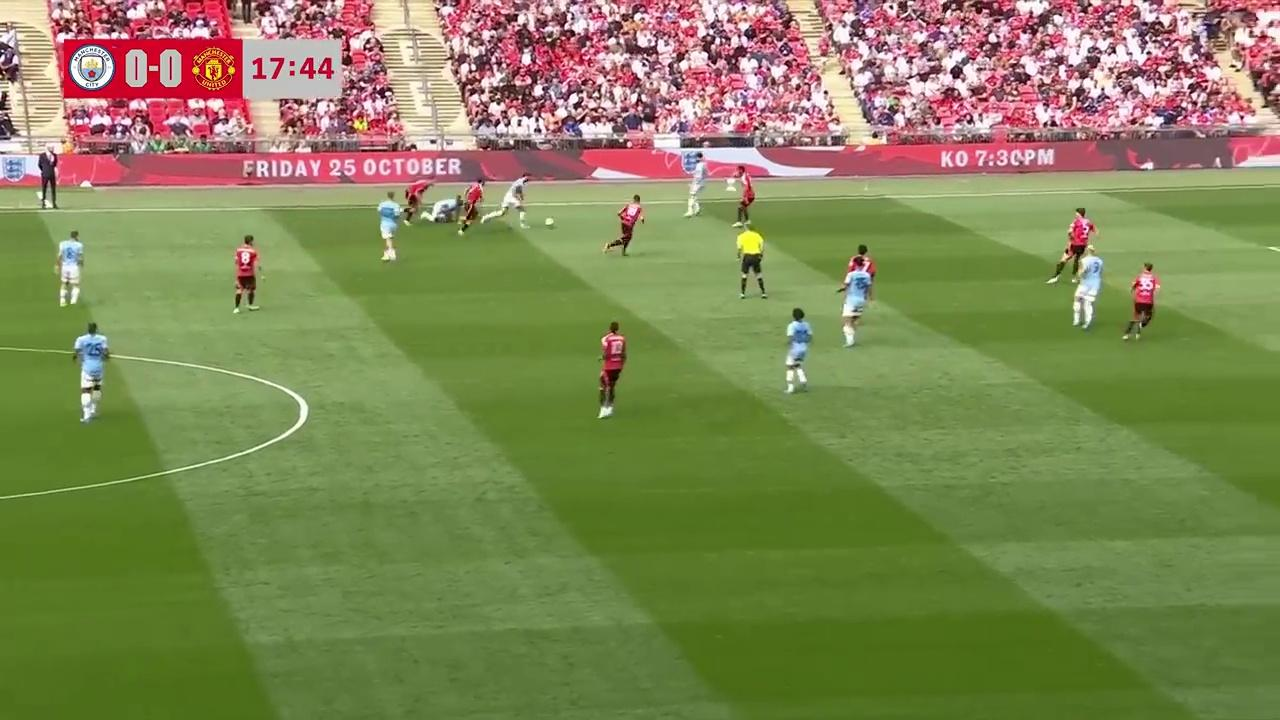ball: (543, 213, 554, 229)
player: (1046, 207, 1097, 285), (72, 322, 109, 423), (839, 248, 874, 338), (1122, 262, 1160, 340), (1072, 244, 1106, 331), (597, 321, 626, 418), (602, 194, 645, 256), (783, 307, 813, 395), (233, 235, 263, 313), (54, 229, 84, 306), (497, 169, 534, 227), (844, 245, 875, 312), (838, 278, 867, 347), (378, 192, 398, 263), (457, 180, 482, 235), (402, 176, 428, 225), (422, 196, 460, 228), (734, 172, 756, 224), (684, 171, 702, 217)
referee: (735, 222, 767, 299)
